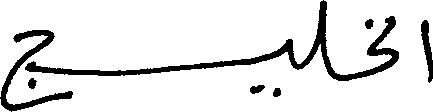ا: (419, 17, 431, 83)
ج: (0, 28, 55, 110)
خ: (363, 18, 398, 73)
ل: (311, 0, 327, 73), (376, 13, 398, 44)
ي: (246, 37, 294, 99)
